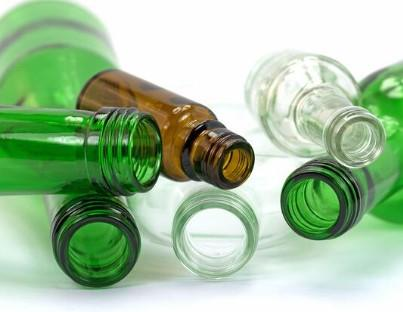glass: (0, 0, 146, 291), (123, 94, 327, 278), (70, 65, 259, 195), (278, 55, 403, 245), (242, 45, 388, 172), (0, 108, 164, 198)
